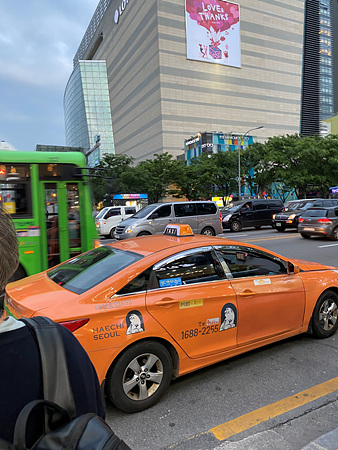entrance: (39, 176, 86, 258)
